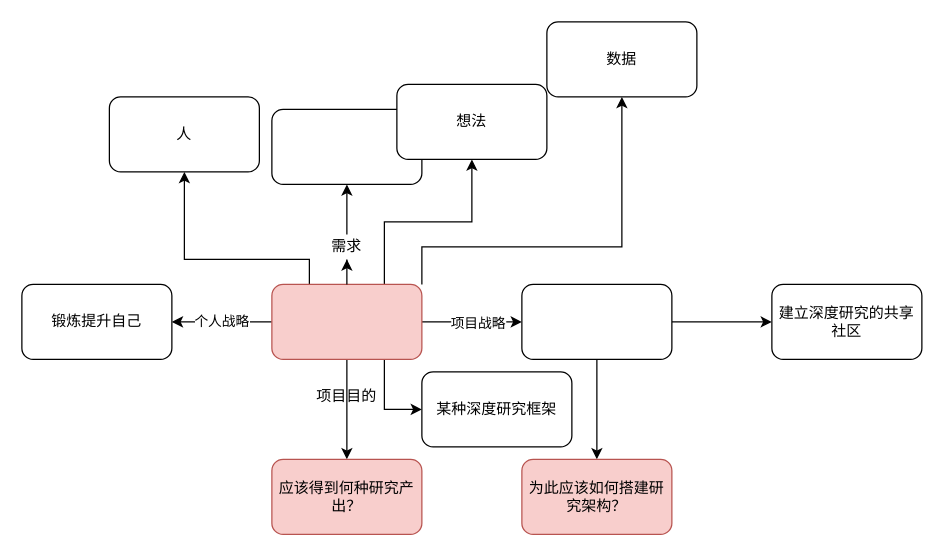
The diagram is 944 pixels wide and 556 high, and some of its shapes have lost their labels. Each missing label, with the box of its shape:
寻找合适的项目 （城市研究？）: (271, 283, 422, 359)
寻找志同道合的人: (521, 283, 672, 359)
平台: (271, 108, 422, 184)
